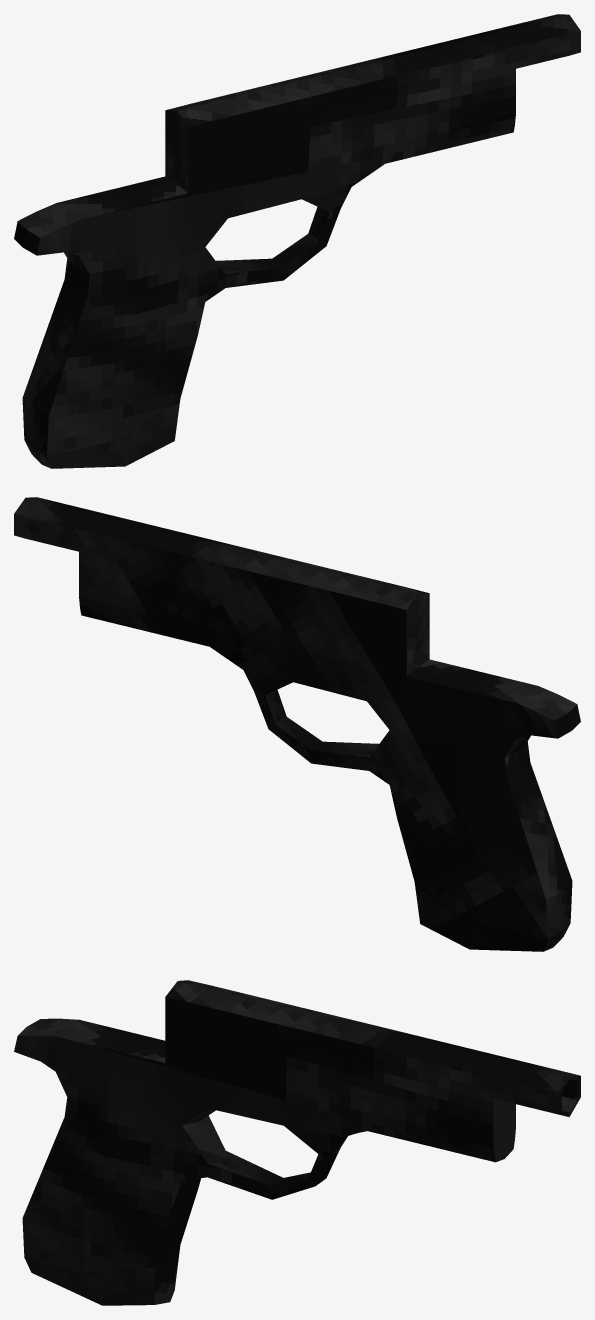
File: gun_base.glb
3 renders of one model, top to bottom at view 1: azimuth 30°, elevation 25°; view 2: azimuth 150°, elevation 25°; view 3: azimuth 330°, elevation 25°, orthographic.
Parts seen in each view (by area): view 1: Cube; view 2: Cube; view 3: Cube.
Part boxes in pixels (<box>): Cube: <box>14,14,580,468</box>; Cube: <box>14,497,580,951</box>; Cube: <box>14,980,580,1305</box>.
Size of the model in its own units: 7.81 by 4.58 by 0.8058.
Materials: 1 (1 with a texture image).
